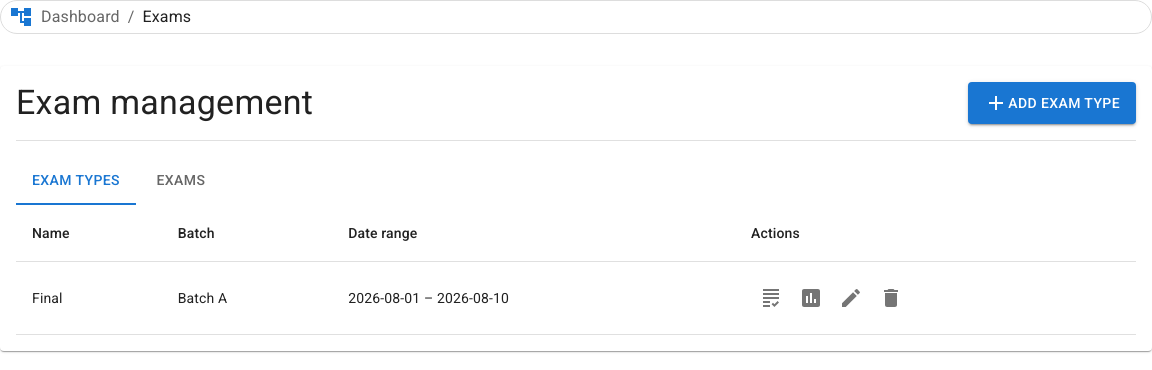
Test case: ExamManagement › renders both exam-type and exam management views
The width and height of the screenshot is (1152, 370).
Expected: the text "Batch A" is shown, [162,262,332,334]
Step 1. Click the tab "Exams" → (181, 181), box [136,157,226,205]
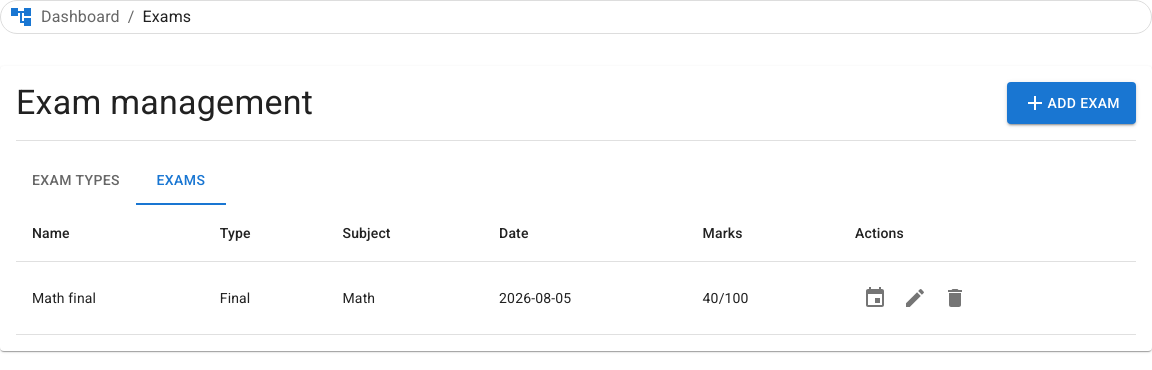
Result: the text "Math final" is shown at [16,262,204,334]
Result: the text "40/100" is shown at [687,262,839,334]
